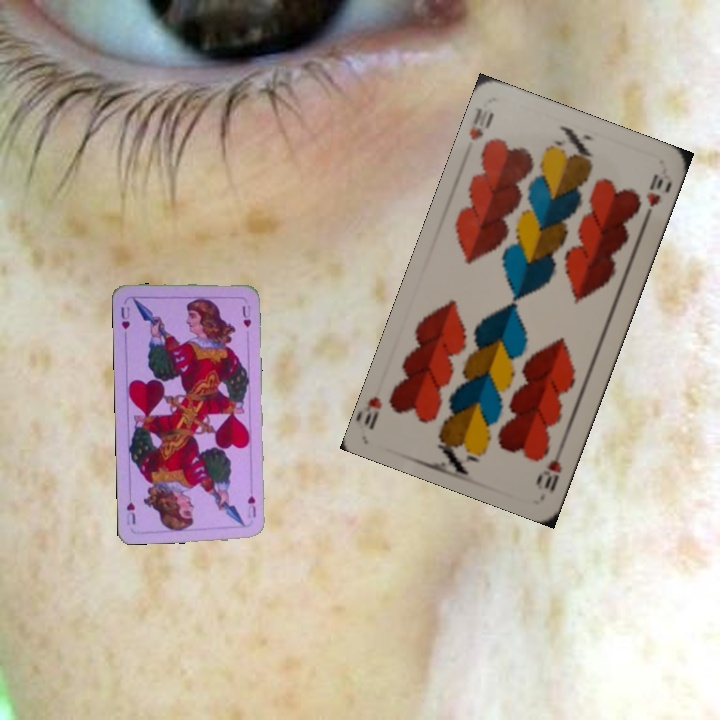H10: (532, 440, 567, 494), (465, 104, 497, 143)
HU: (243, 492, 259, 521), (117, 303, 132, 332)
